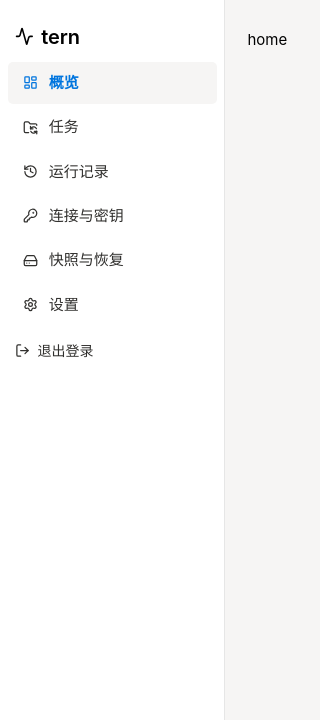
Test: on QTS, logging out of the password session falls back to the QTS sign-in
The width and height of the screenshot is (320, 720).
Click the button "退出登录".
click(54, 351)  # box [15,341,94,361]
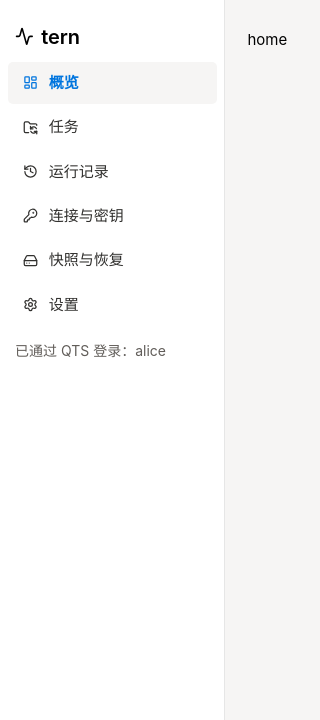
Check: the text "home" is shown, box [248,30,287,49]
Check: the text "已通过 QTS 登录：alice" is shown, box [15,342,166,359]
